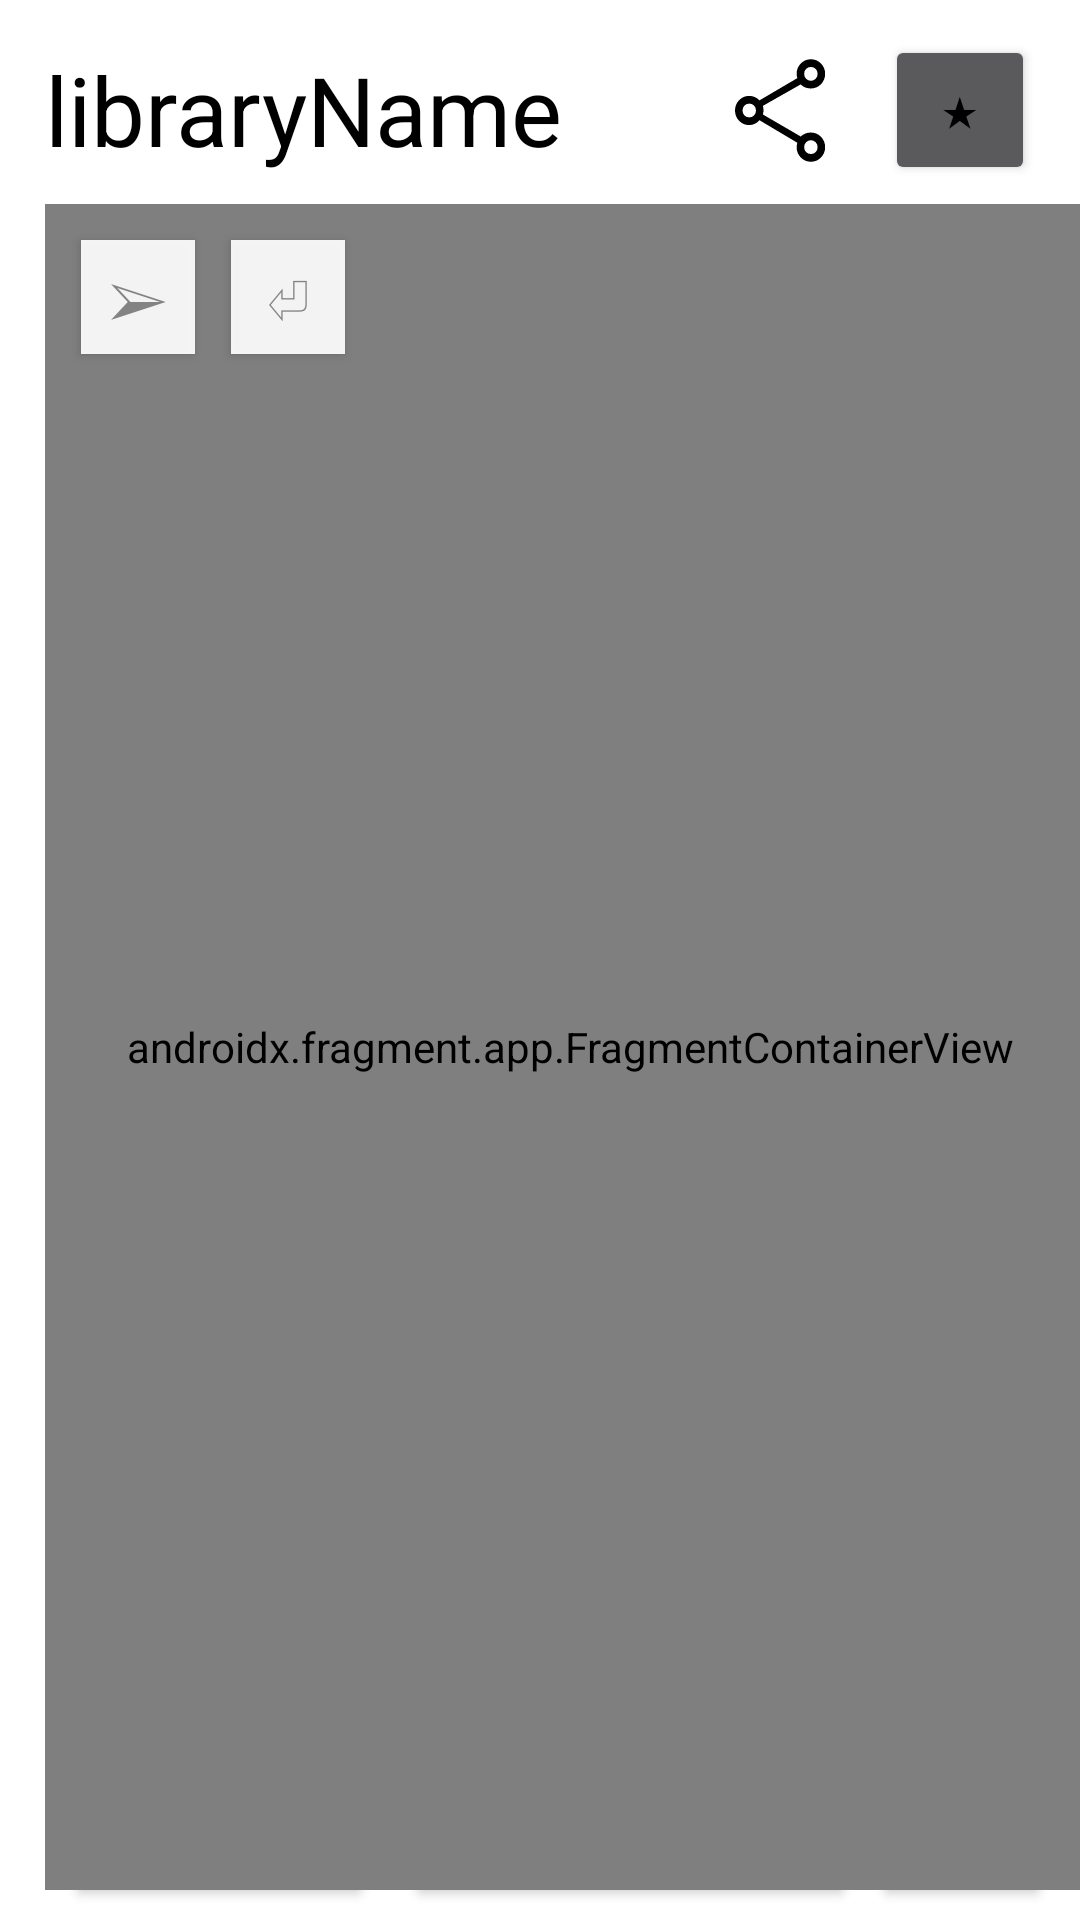

Icon bounding boxes for this 1080 x 1920 phone screenshot, format Rect(x1, y1, x2, y2):
share: Rect(735, 59, 825, 162)
